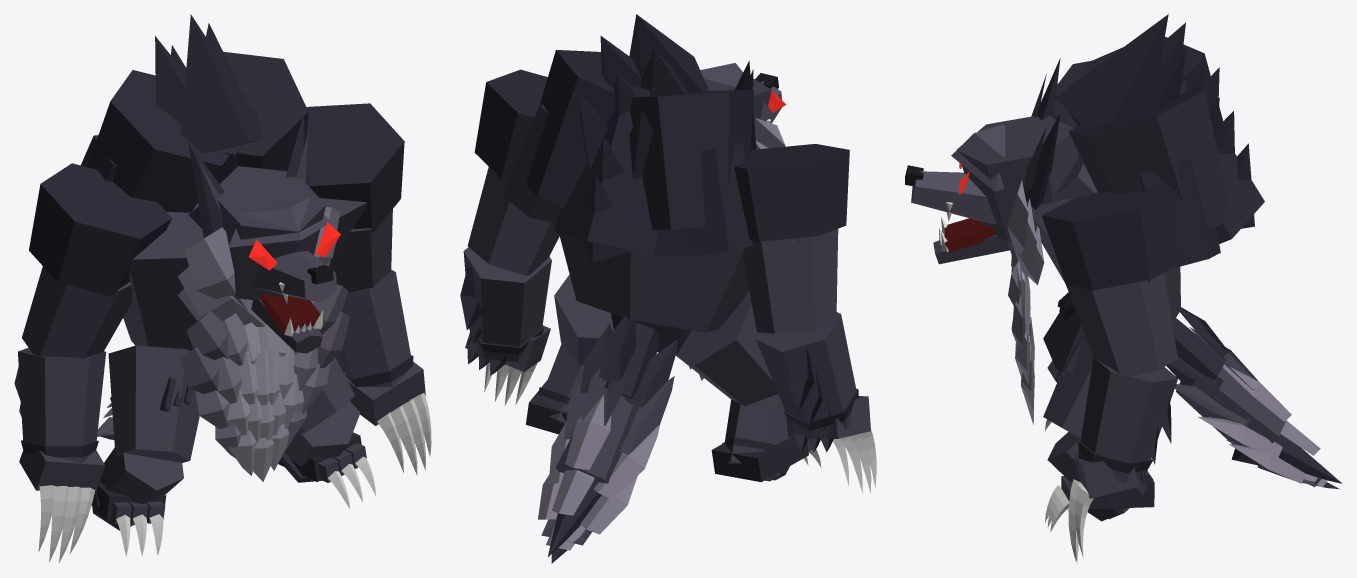
File: wolf.glb
The picture shows the model from 3 angles, left to right: view 1: azimuth 30°, elevation 25°; view 2: azimuth 150°, elevation 25°; view 3: azimuth 270°, elevation 25°; orthographic projection. The views are drawn at different scales.
Visible parts, largest first — view 1: ArmLeftGroup, ChestManeGroup, HumpGroup, HeadGroup, ArmRightGroup, LegLeftGroup, DorsalFurRidges, ChestGroup, object 12, object 22, HandLeft, HandRight (+10 smaller); view 2: HumpGroup, ArmLeftGroup, BristleBundle, ChestGroup, ArmRightGroup, DorsalFurRidges, object 12, object 22, LegLeftGroup, TailGroup, object 32, LegRightGroup (+11 smaller); view 3: ArmRightGroup, HumpGroup, HeadGroup, DorsalFurRidges, object 22, BristleBundle, TailGroup, MuzzleGroup, LegRightGroup, HandRight, ChestManeGroup, LowerJawPivot (+7 smaller).
Part boxes in pixels (x1=…): ArmLeftGroup: x1=22, y1=163, x2=172, y2=359; ChestManeGroup: x1=180, y1=284, x2=350, y2=481; HumpGroup: x1=80, y1=51, x2=308, y2=212; HeadGroup: x1=178, y1=113, x2=339, y2=326; ArmRightGroup: x1=306, y1=103, x2=404, y2=292; LegLeftGroup: x1=108, y1=345, x2=199, y2=462; DorsalFurRidges: x1=155, y1=14, x2=263, y2=153; ChestGroup: x1=123, y1=198, x2=367, y2=350; object 12: x1=18, y1=348, x2=106, y2=467; object 22: x1=335, y1=270, x2=411, y2=391; HandLeft: x1=19, y1=449, x2=105, y2=563; HandRight: x1=344, y1=362, x2=431, y2=475; HumpGroup: x1=502, y1=50, x2=753, y2=257; ArmLeftGroup: x1=734, y1=144, x2=849, y2=333; BristleBundle: x1=538, y1=316, x2=678, y2=563; ChestGroup: x1=558, y1=232, x2=748, y2=332; ArmRightGroup: x1=467, y1=69, x2=559, y2=275; DorsalFurRidges: x1=579, y1=14, x2=709, y2=262; object 12: x1=756, y1=312, x2=856, y2=438; object 22: x1=463, y1=247, x2=551, y2=362; LegLeftGroup: x1=675, y1=295, x2=777, y2=406; TailGroup: x1=548, y1=322, x2=659, y2=556; object 32: x1=725, y1=394, x2=790, y2=481; LegRightGroup: x1=554, y1=274, x2=613, y2=365; ArmRightGroup: x1=1041, y1=188, x2=1180, y2=376; HumpGroup: x1=1068, y1=36, x2=1264, y2=268; HeadGroup: x1=951, y1=58, x2=1078, y2=285; DorsalFurRidges: x1=1055, y1=14, x2=1254, y2=228; object 22: x1=1077, y1=357, x2=1177, y2=482; BristleBundle: x1=1169, y1=307, x2=1339, y2=489; TailGroup: x1=1166, y1=318, x2=1341, y2=483; MuzzleGroup: x1=905, y1=165, x2=996, y2=224; LegRightGroup: x1=1043, y1=324, x2=1093, y2=438; HandRight: x1=1068, y1=452, x2=1138, y2=563; ChestManeGroup: x1=1008, y1=243, x2=1034, y2=424; LowerJawPivot: x1=933, y1=217, x2=1012, y2=264.
Size of the model in its own units: 0.9636 by 1.14 by 0.9509.
